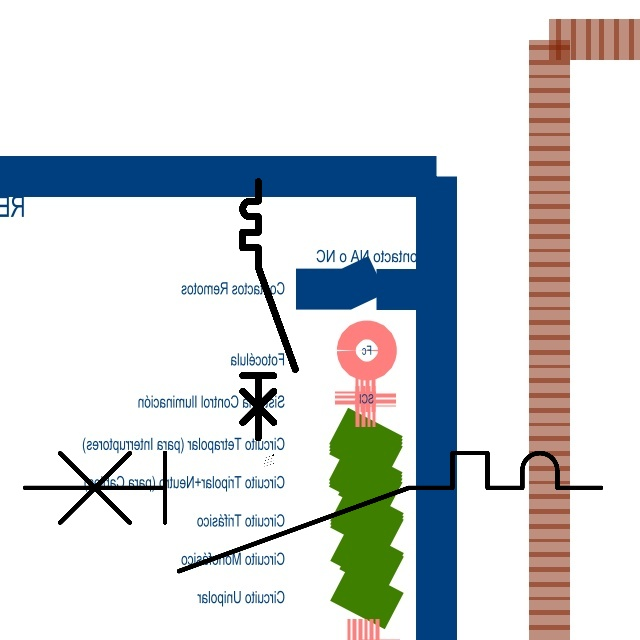interruptor_termomagnetico: (10, 438, 616, 586), (236, 175, 302, 445)
